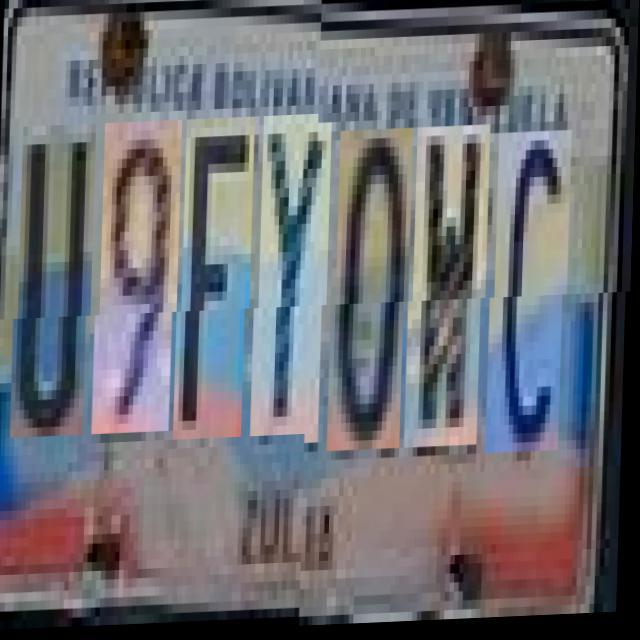9: (99, 130, 182, 444)
C: (492, 135, 572, 458)
F: (180, 128, 255, 450)
O: (334, 132, 414, 454)
U: (17, 134, 96, 448)
W: (412, 129, 492, 452)
Y: (258, 125, 332, 448)
